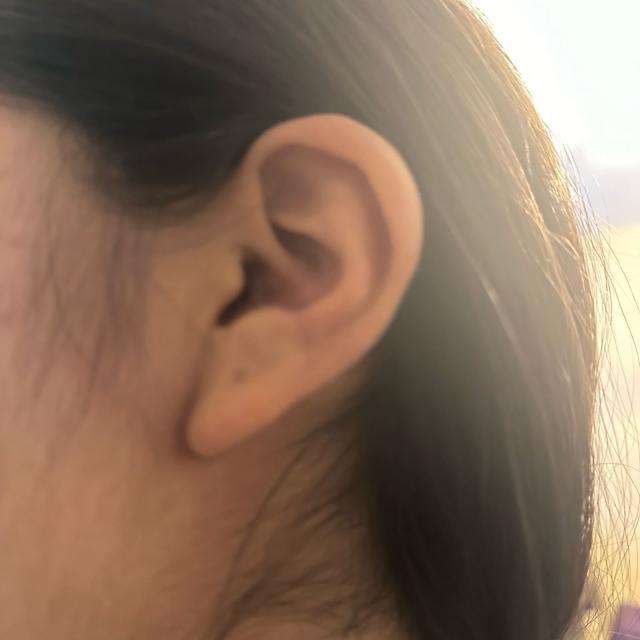ear: (188, 115, 422, 456)
